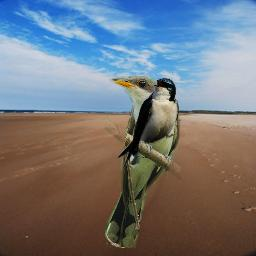Cuckoo: (105, 76, 181, 248)
Swallow: (117, 78, 179, 170)
